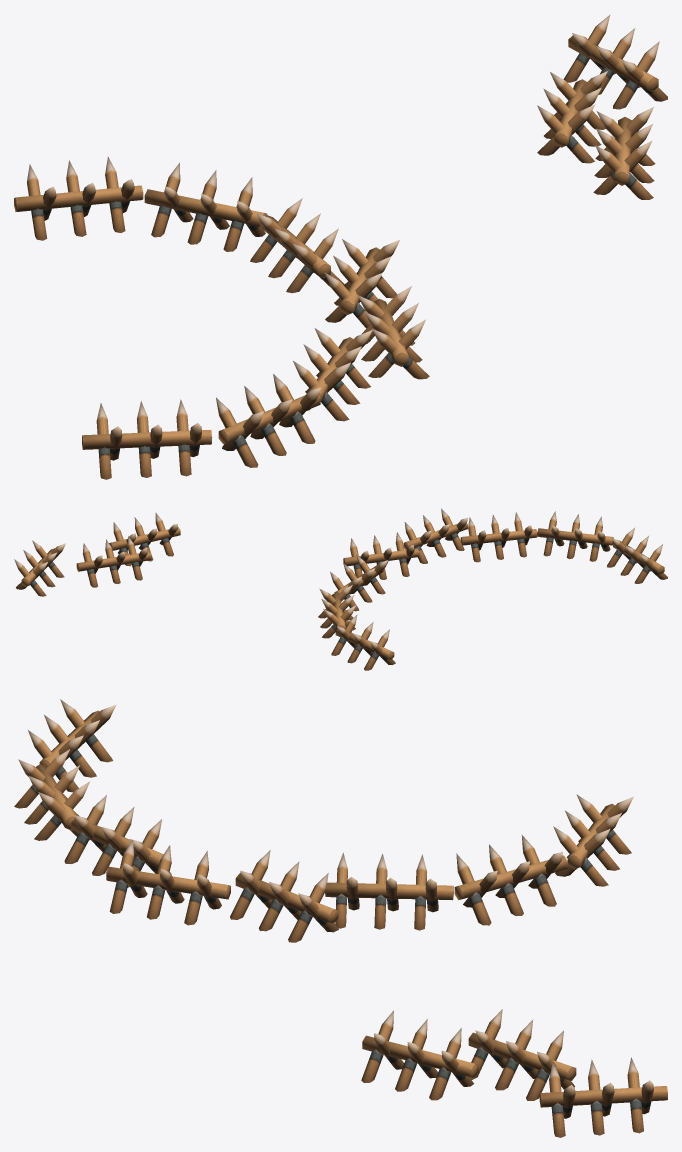
File: area_12_18.fbx
3 views of the same model, one above another, from view 1: azimuth 30°, elevation 25°; view 2: azimuth 150°, elevation 25°; view 3: azimuth 270°, elevation 25° (orthographic). The views are drawn at different scales.
Parts seen in each view (by area): view 1: area_12_18; view 2: area_12_18; view 3: area_12_18.
Boxes of the visible parts, <box> form: area_12_18: <box>14,14,667,479</box>; area_12_18: <box>14,508,667,670</box>; area_12_18: <box>14,699,667,1137</box>.
Bounding box in the file's own units: 38.62 × 2.36 × 26.97.
